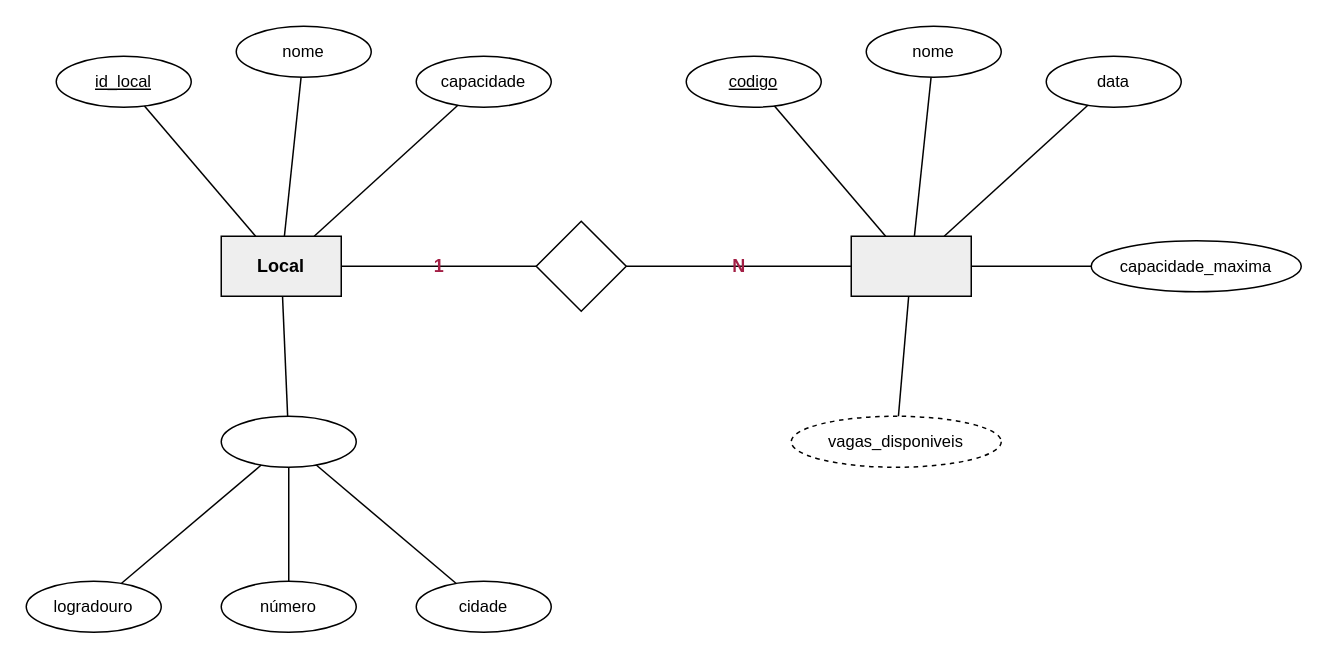
The diagram is 1328 pixels wide and 659 high, and some of its shapes have lost their labels. Each missing label, with the centre of its shape:
"endereço" belongs at point (288, 441).
"Evento" belongs at point (910, 265).
"Sedia" belongs at point (580, 265).
